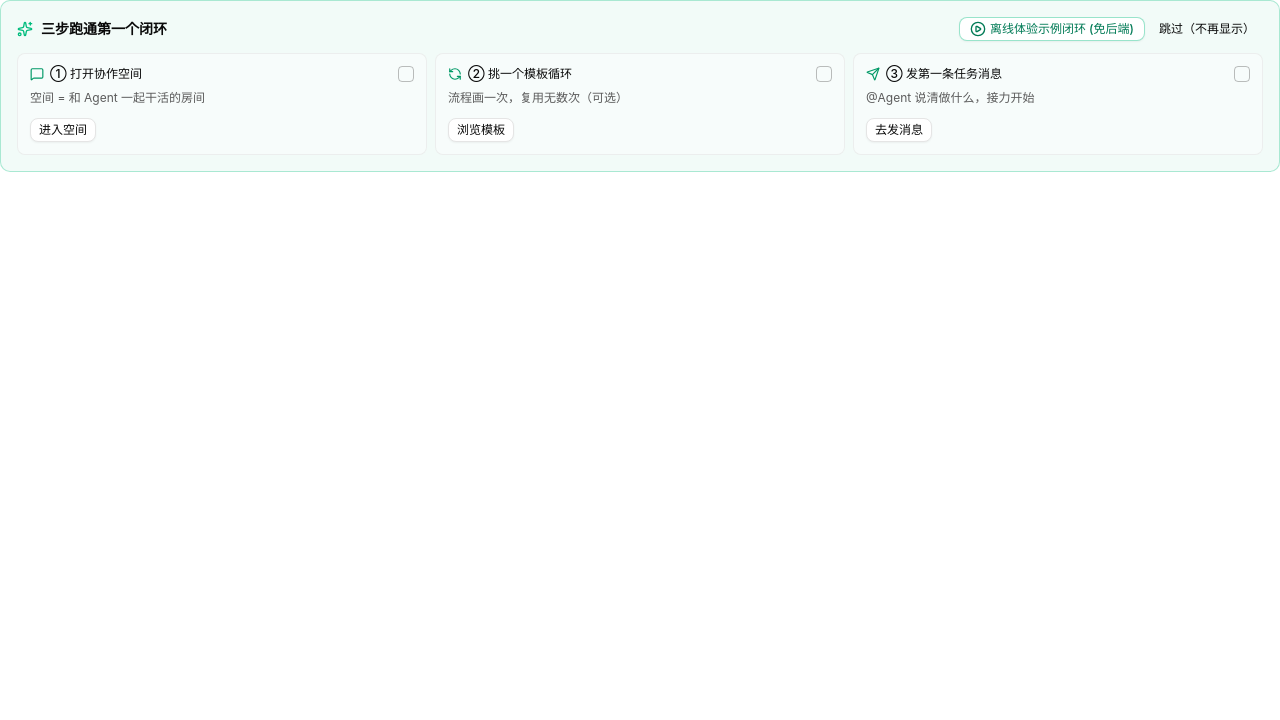
Test: WelcomeSteps: 三步引导与示例闭环 (C-7) › 打开离线示例空间全闭环对话框，完成演练可一键打勾全部步骤
Click the button "离线体验示例闭环 (免后端)" at [1052, 29], box [959,17,1145,41]
(page scrolled)
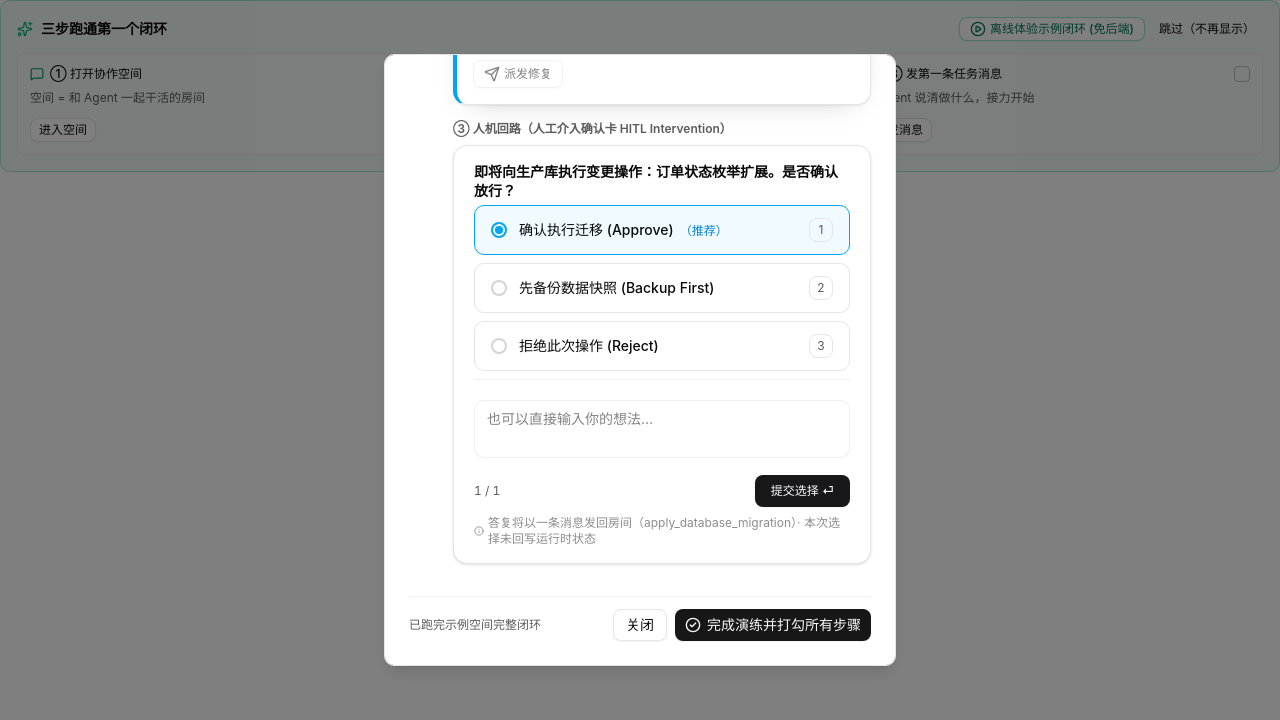
expect the text "③ 人机回路（人工介入确认卡 HITL Intervention）" is shown: met, box [453,121,732,136]
Click the button "完成演练并打勾所有步骤" at [773, 624], box [675,608,871,640]
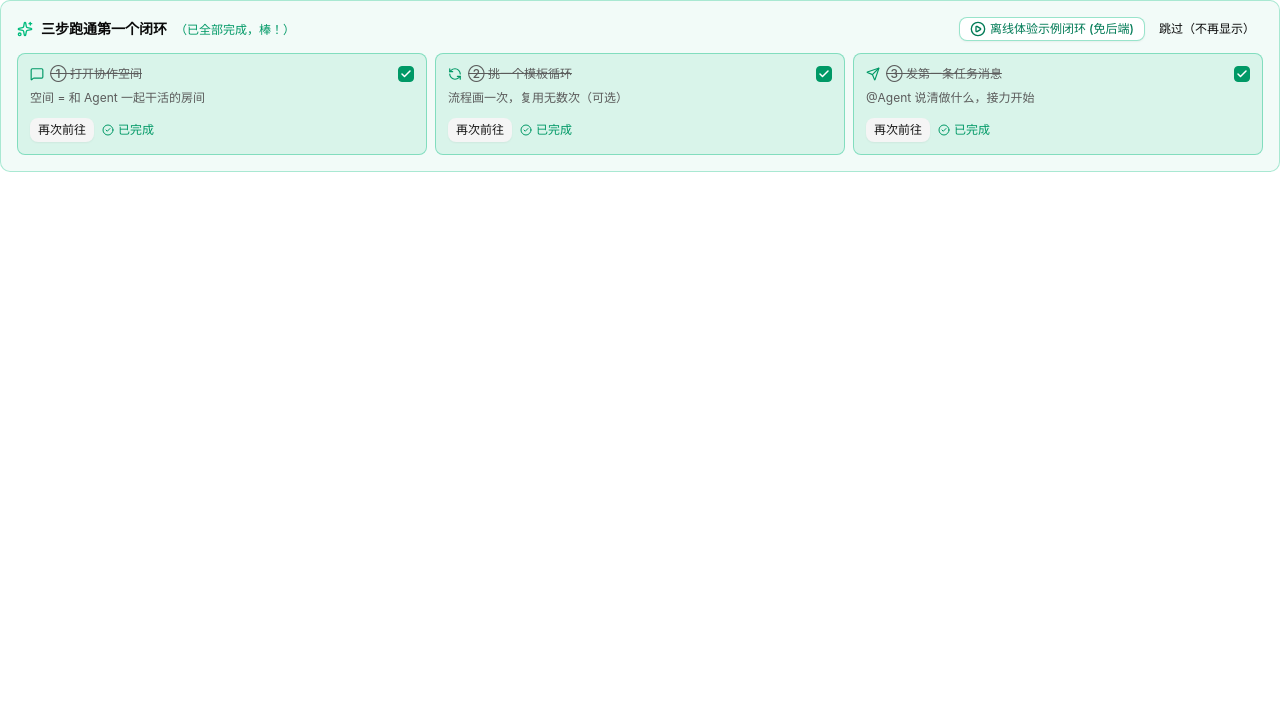
expect the text "（已全部完成，棒！）" is shown: met, box [175,22,295,37]
expect the text "已完成" is shown 3 times: met, box [102,122,154,138]; [520,122,572,138]; [938,122,990,138]
